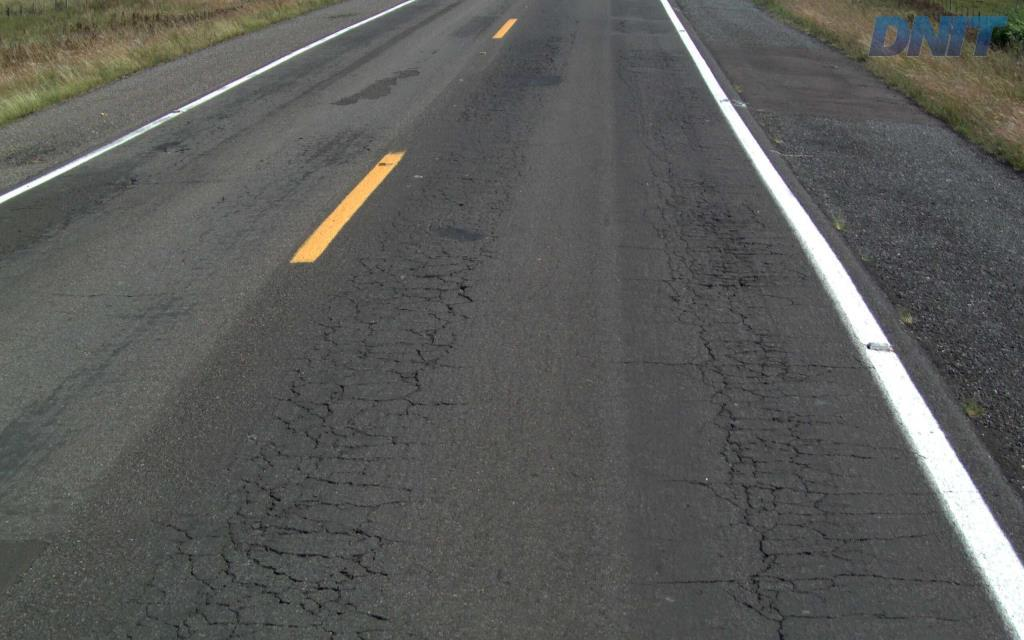crack: (741, 571, 836, 639), (680, 209, 761, 288), (233, 487, 332, 537), (244, 542, 330, 585), (739, 508, 792, 573), (175, 540, 226, 606), (722, 422, 772, 488), (746, 333, 787, 385), (697, 256, 738, 303), (740, 481, 799, 511)
